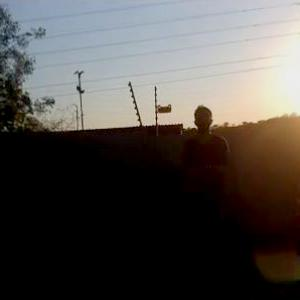follow: (176, 102, 238, 277)
